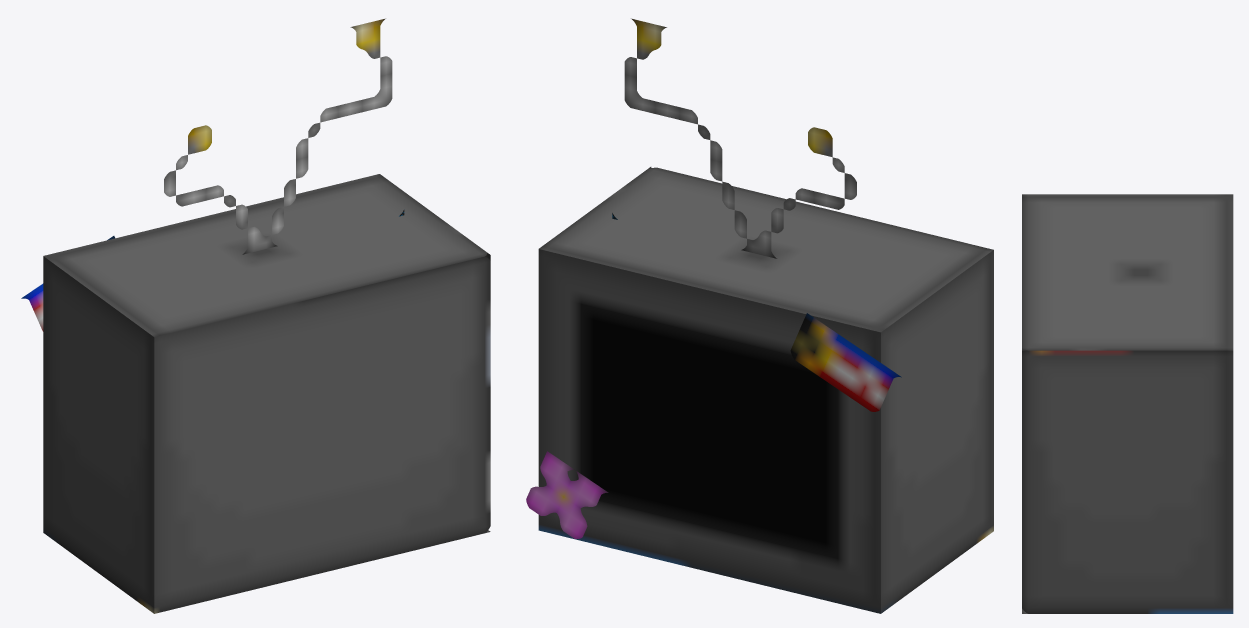
The model's file is tom.dae.
3 views of the same model, side by side, from view 1: azimuth 30°, elevation 25°; view 2: azimuth 150°, elevation 25°; view 3: azimuth 270°, elevation 25° (orthographic). The views are drawn at different scales.
Visible parts, largest first — view 1: cube; view 2: cube; view 3: cube.
Part boxes in pixels (bbox=[...]): cube: bbox=[21, 18, 490, 613]; cube: bbox=[526, 18, 993, 613]; cube: bbox=[1022, 194, 1233, 613].
Bounding box in the file's own units: 0.9956 × 1.23 × 0.5039.
1 material, 1 textured.
